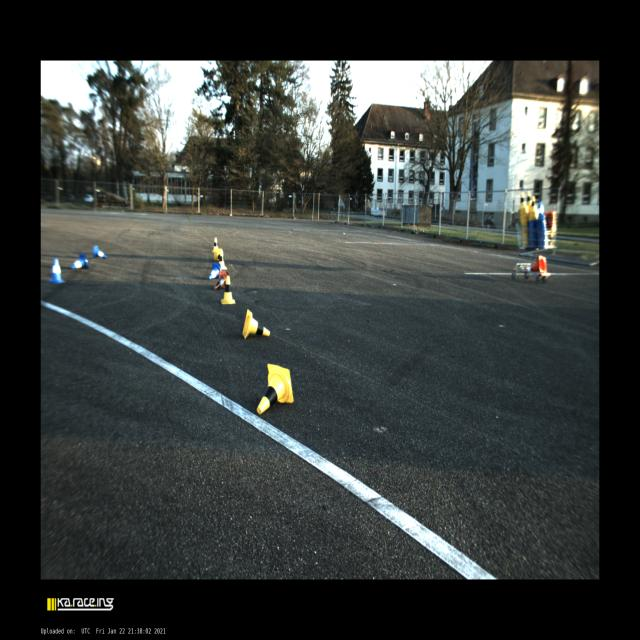blue_cone: (47, 258, 65, 283), (70, 253, 88, 269), (93, 245, 107, 259), (208, 264, 219, 279)
orange_cone: (214, 271, 228, 290)
yellow_cone: (257, 364, 294, 414), (242, 309, 270, 339), (221, 275, 235, 304), (219, 251, 228, 269), (214, 248, 222, 260), (212, 237, 218, 252)
